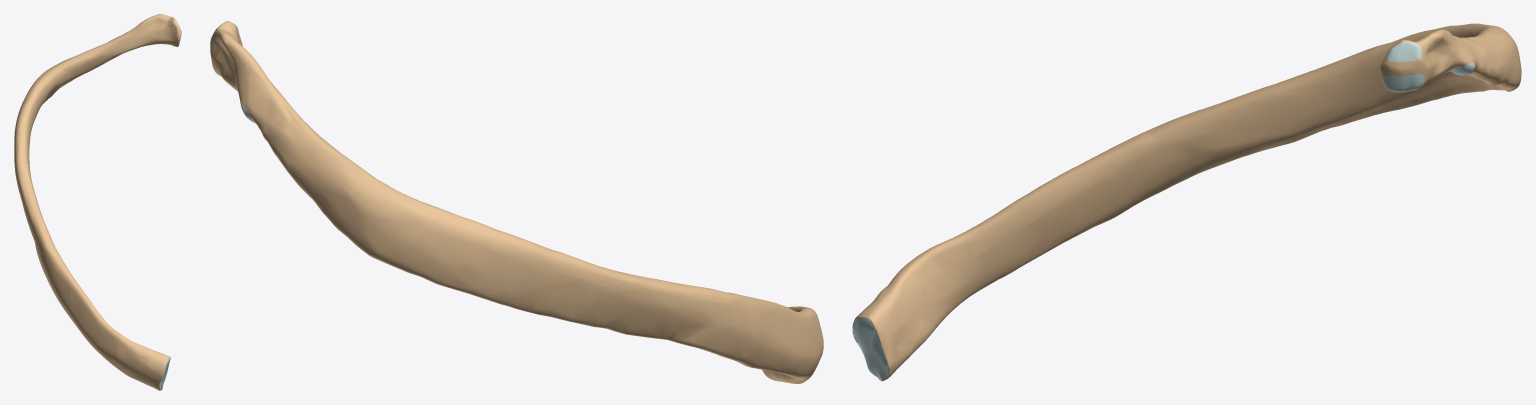
File: 7th_rib.r_Generated_Mesh_From_X3D.882.glb
3 renders of one model, left to right at view 1: azimuth 30°, elevation 25°; view 2: azimuth 150°, elevation 25°; view 3: azimuth 270°, elevation 25°, orthographic. The views are drawn at different scales.
Parts seen in each view (by area): view 1: 7th_rib.r_Generated_Mesh_From_X3D.882; view 2: 7th_rib.r_Generated_Mesh_From_X3D.882; view 3: 7th_rib.r_Generated_Mesh_From_X3D.882.
Part boxes in pixels (x1,y1,x2,y2): 7th_rib.r_Generated_Mesh_From_X3D.882: [14, 14, 181, 390]; 7th_rib.r_Generated_Mesh_From_X3D.882: [210, 21, 823, 383]; 7th_rib.r_Generated_Mesh_From_X3D.882: [852, 23, 1521, 381].
Bounding box in the file's own units: 0.1252 × 0.1444 × 0.1816.
